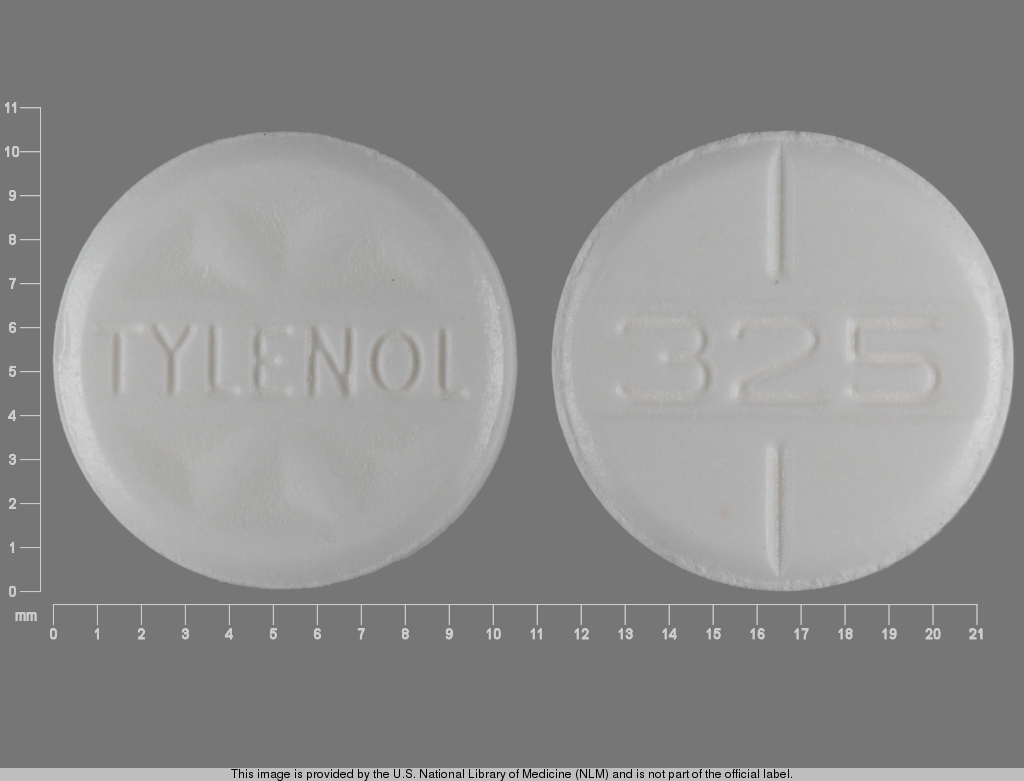Acetaminophen 325 MG Oral Tablet: (541, 123, 1024, 595), (49, 124, 530, 594)
